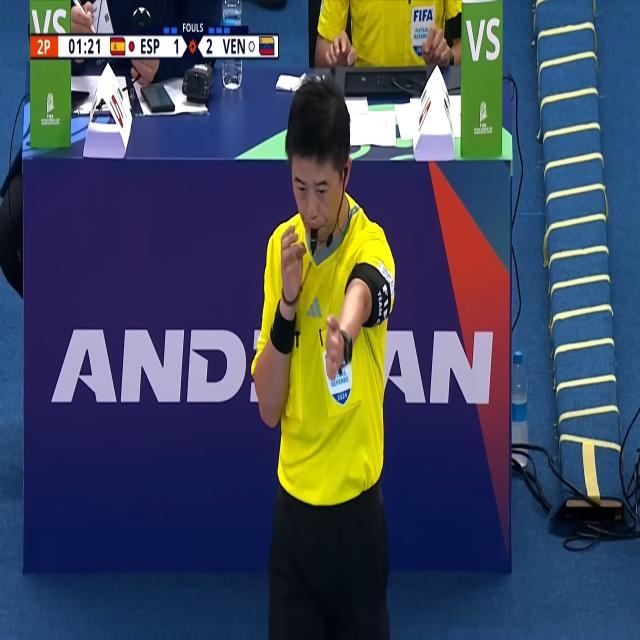Referee: (266, 68, 388, 639)
